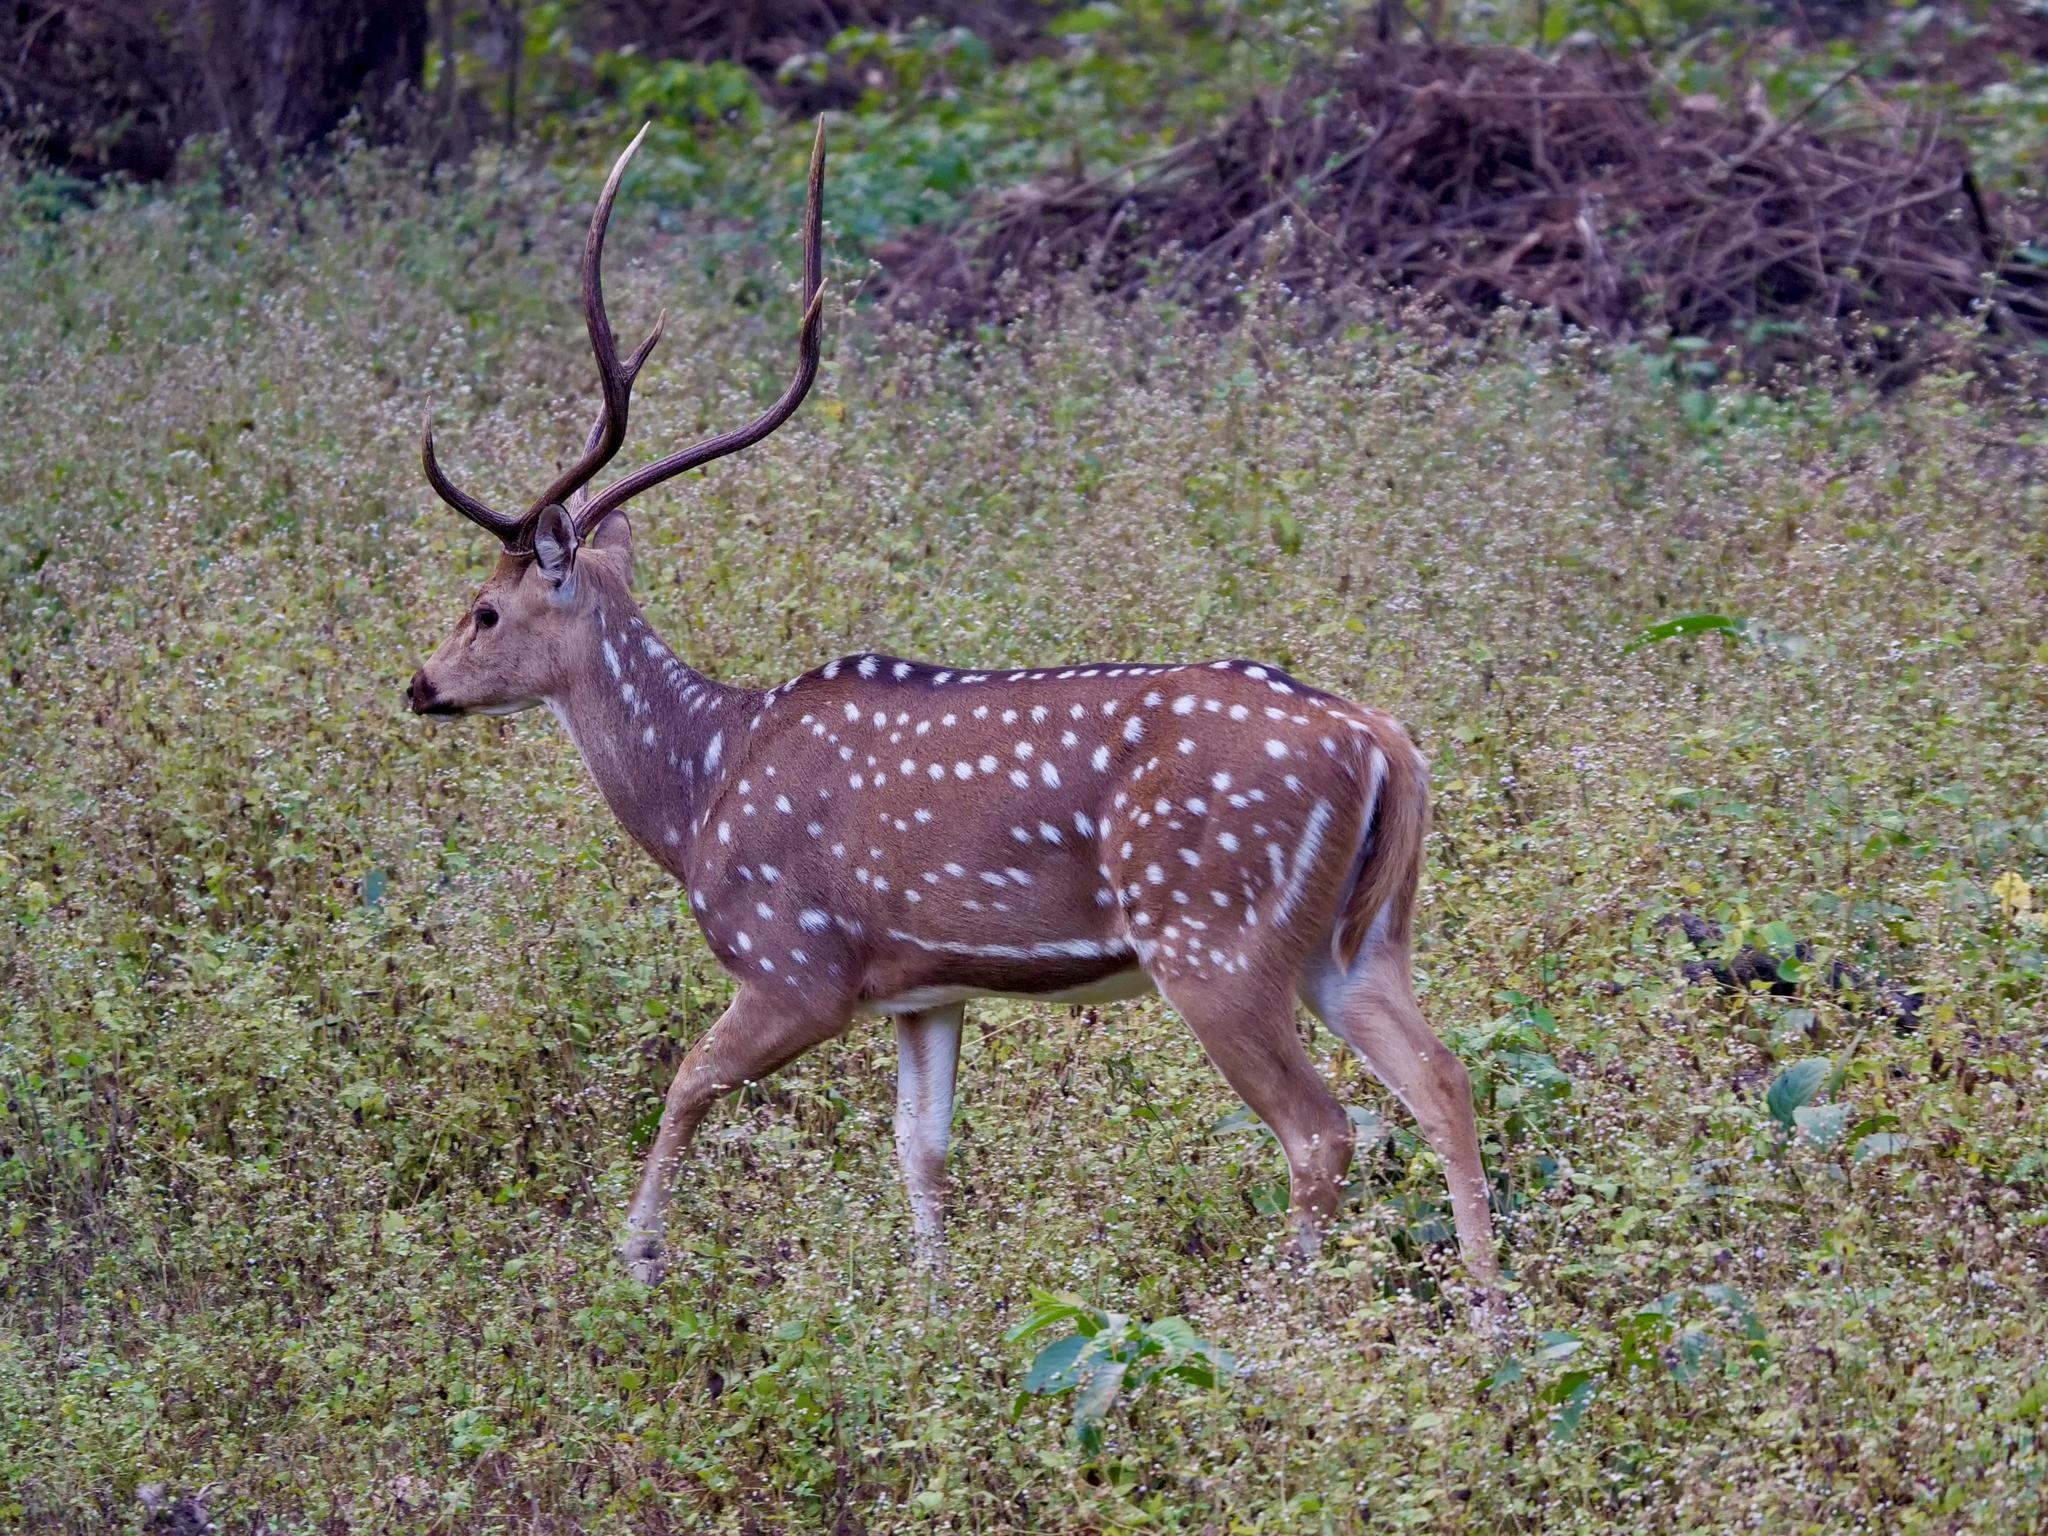Deer: (406, 121, 1498, 1281)
